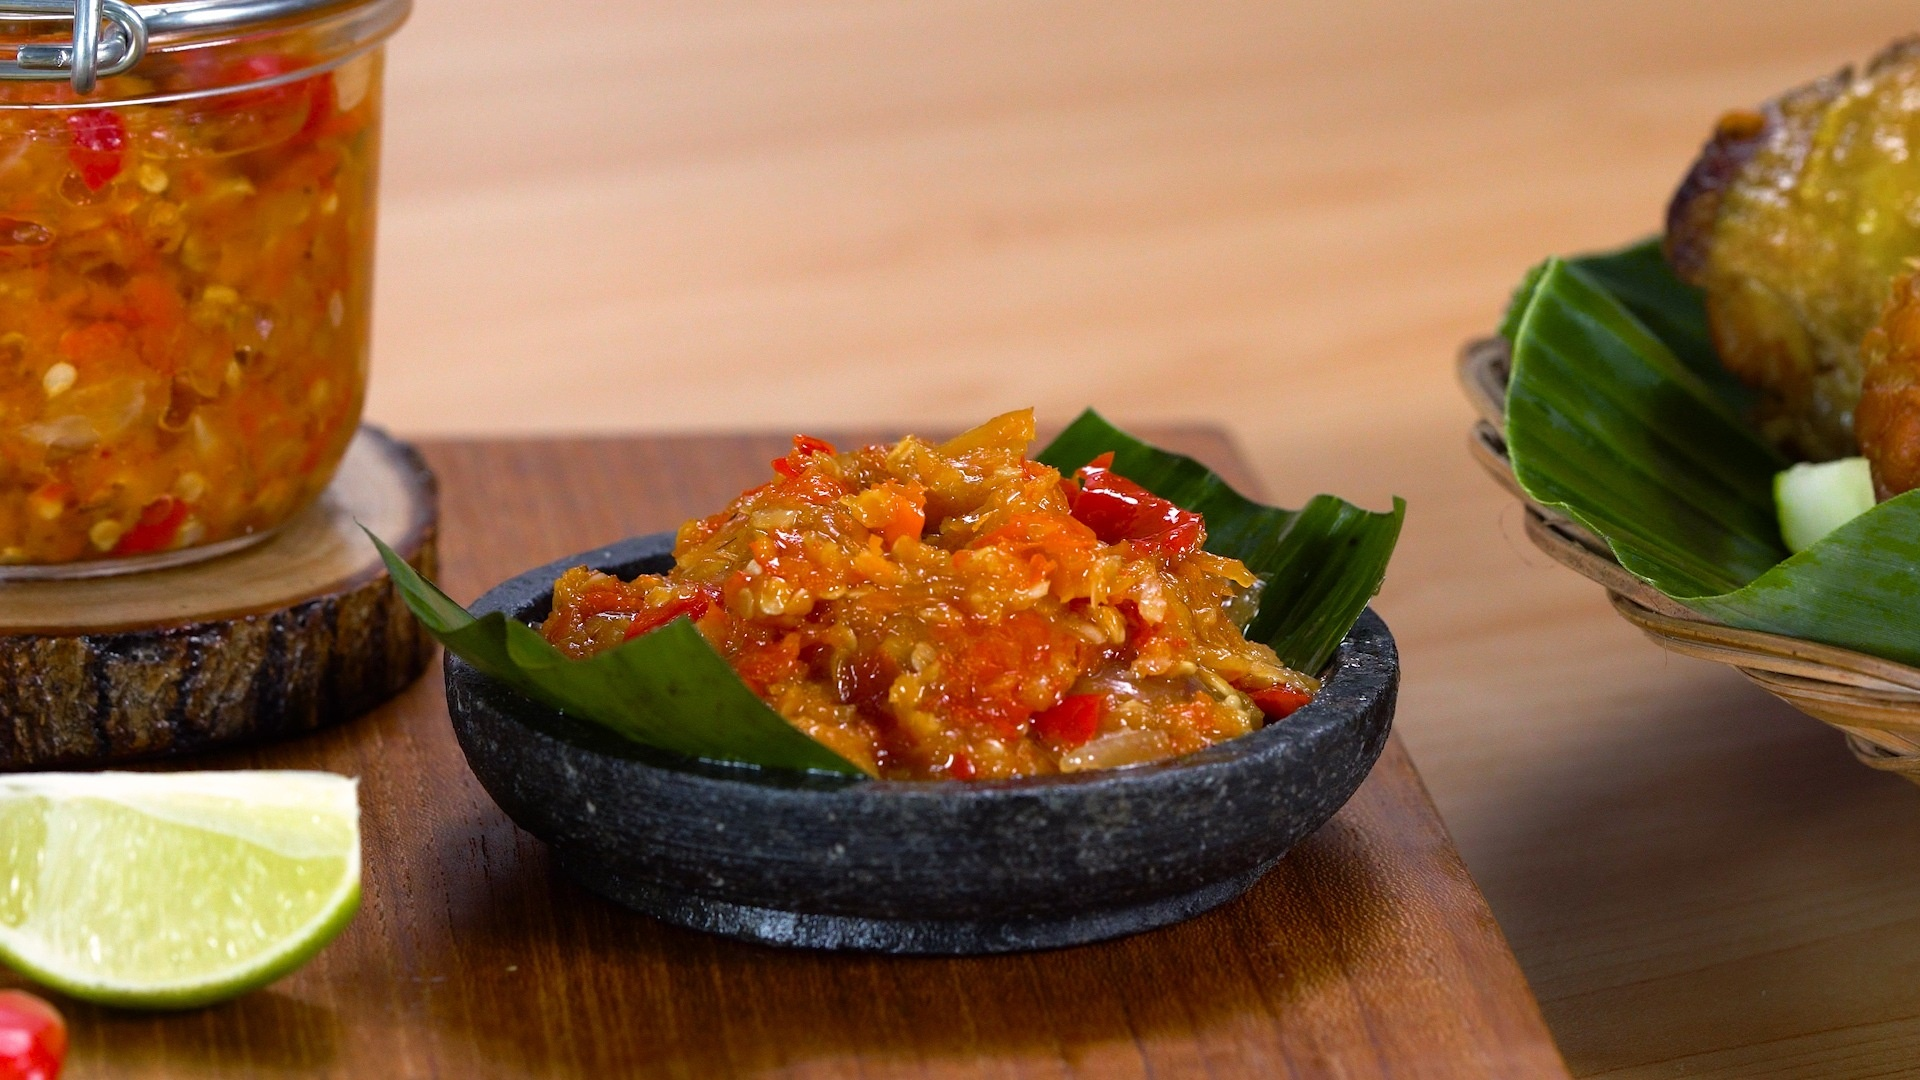sambal: (512, 407, 1325, 793)
